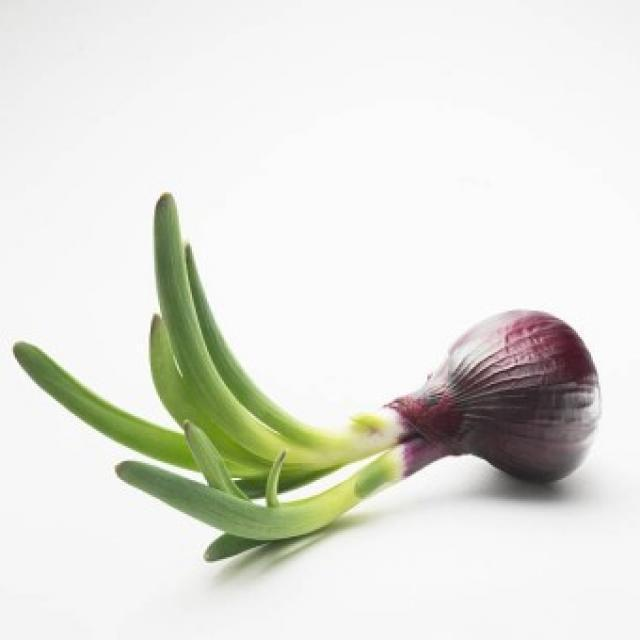onion: (372, 282, 628, 553)
